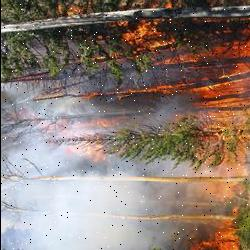fire: (100, 8, 250, 125), (167, 203, 250, 250)
